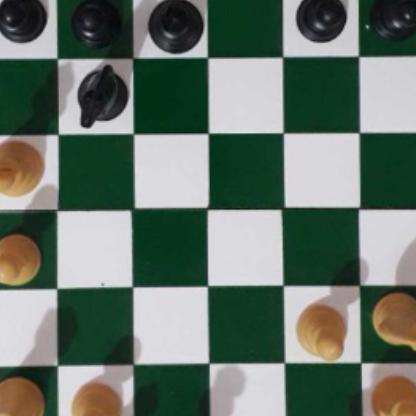black-bishop: (143, 0, 205, 56)
black-knight: (73, 60, 129, 129)
black-pawn: (70, 0, 121, 46), (294, 0, 346, 40), (0, 0, 45, 43), (370, 0, 416, 40)
white-bishop: (0, 140, 45, 198)
white-knight: (368, 286, 416, 352)
white-pawn: (294, 300, 349, 364), (0, 232, 43, 287), (367, 371, 416, 416), (68, 379, 122, 416)
white-rook: (0, 375, 45, 416)
